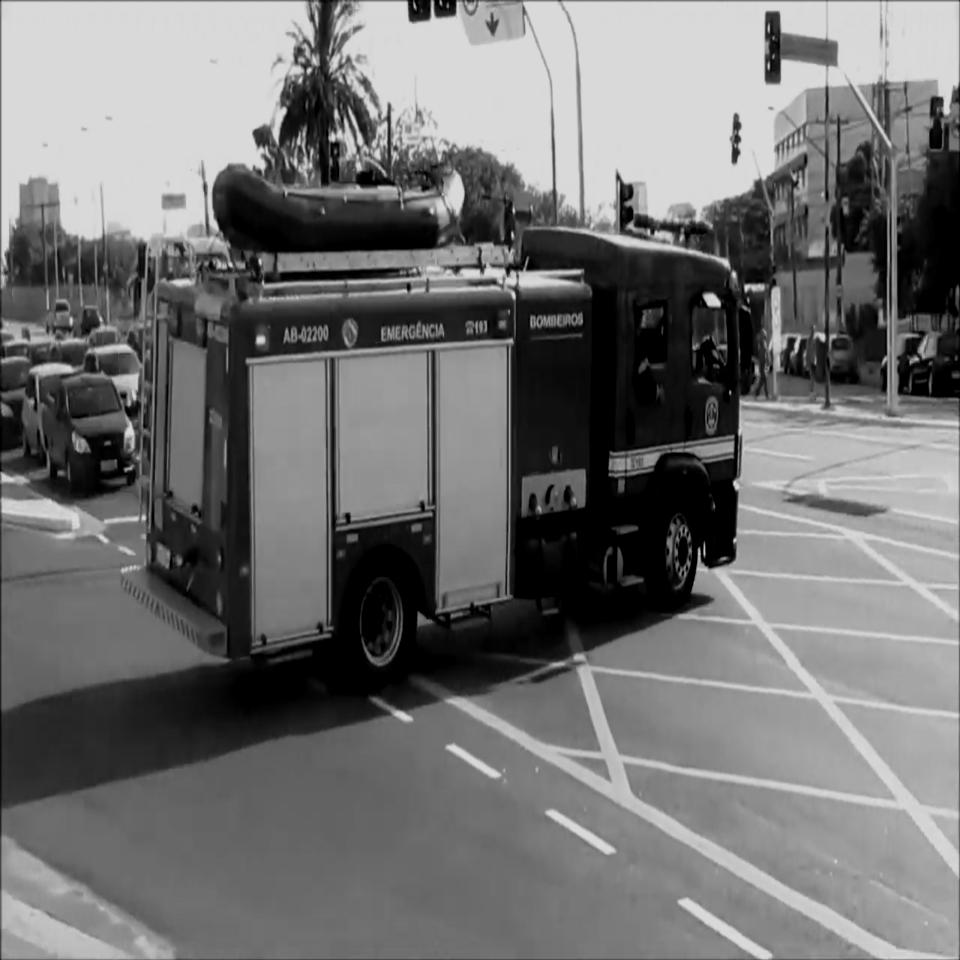bombeiro: (123, 158, 758, 712)
